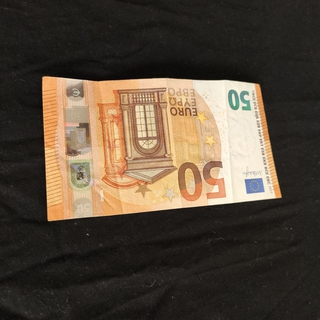50EUROFront: (41, 75, 283, 223)
